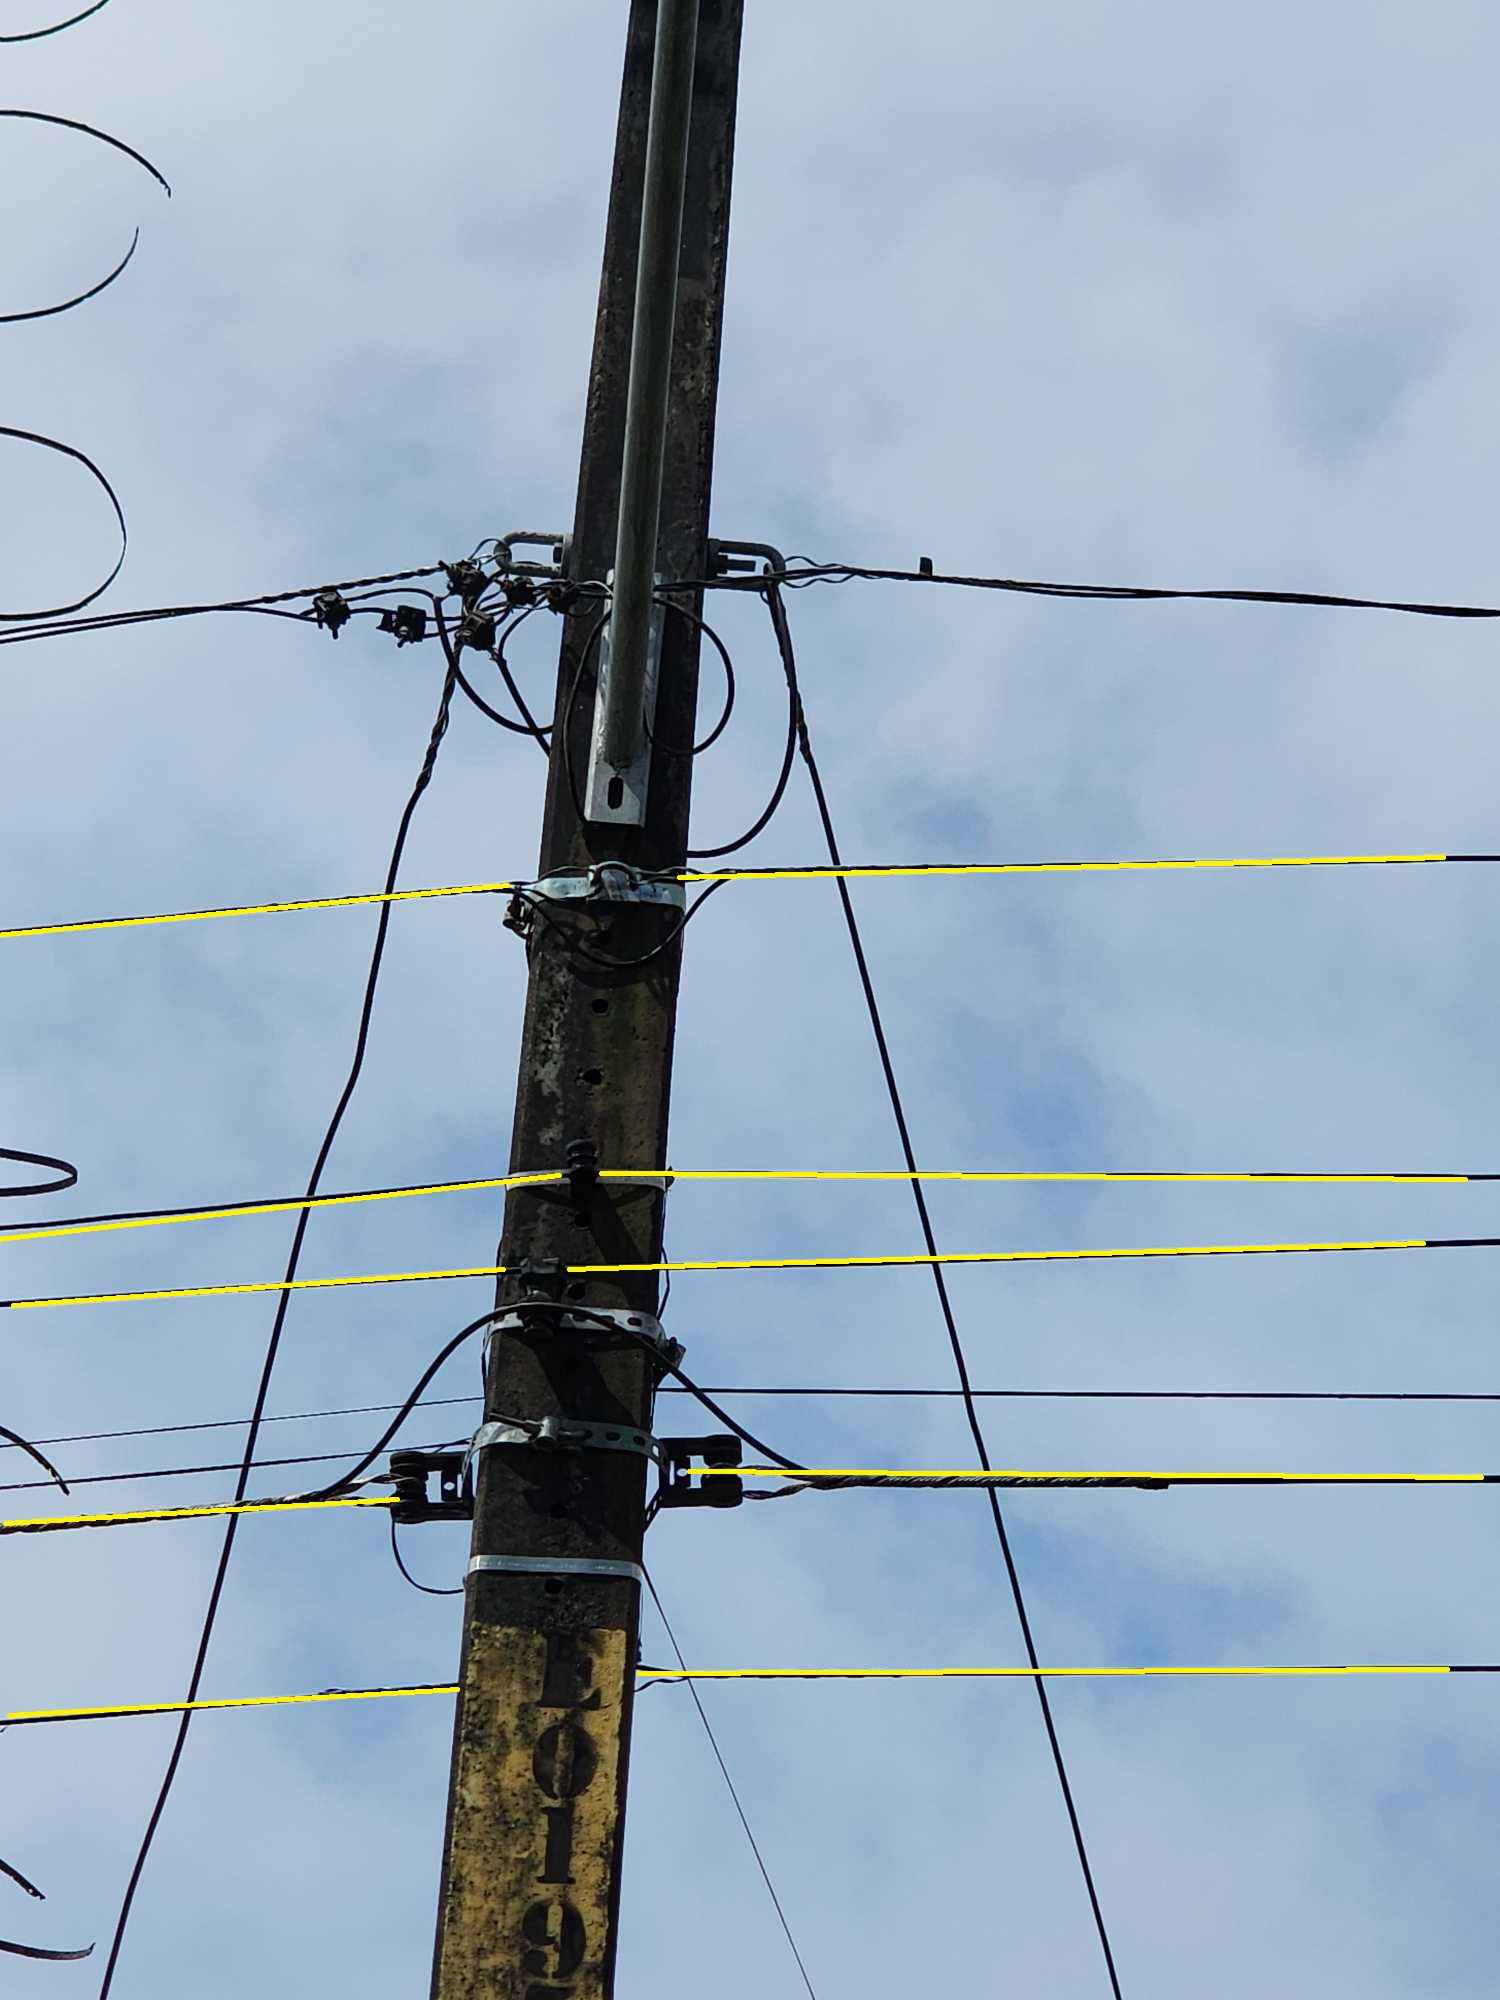poste: (441, 14, 785, 2000)
